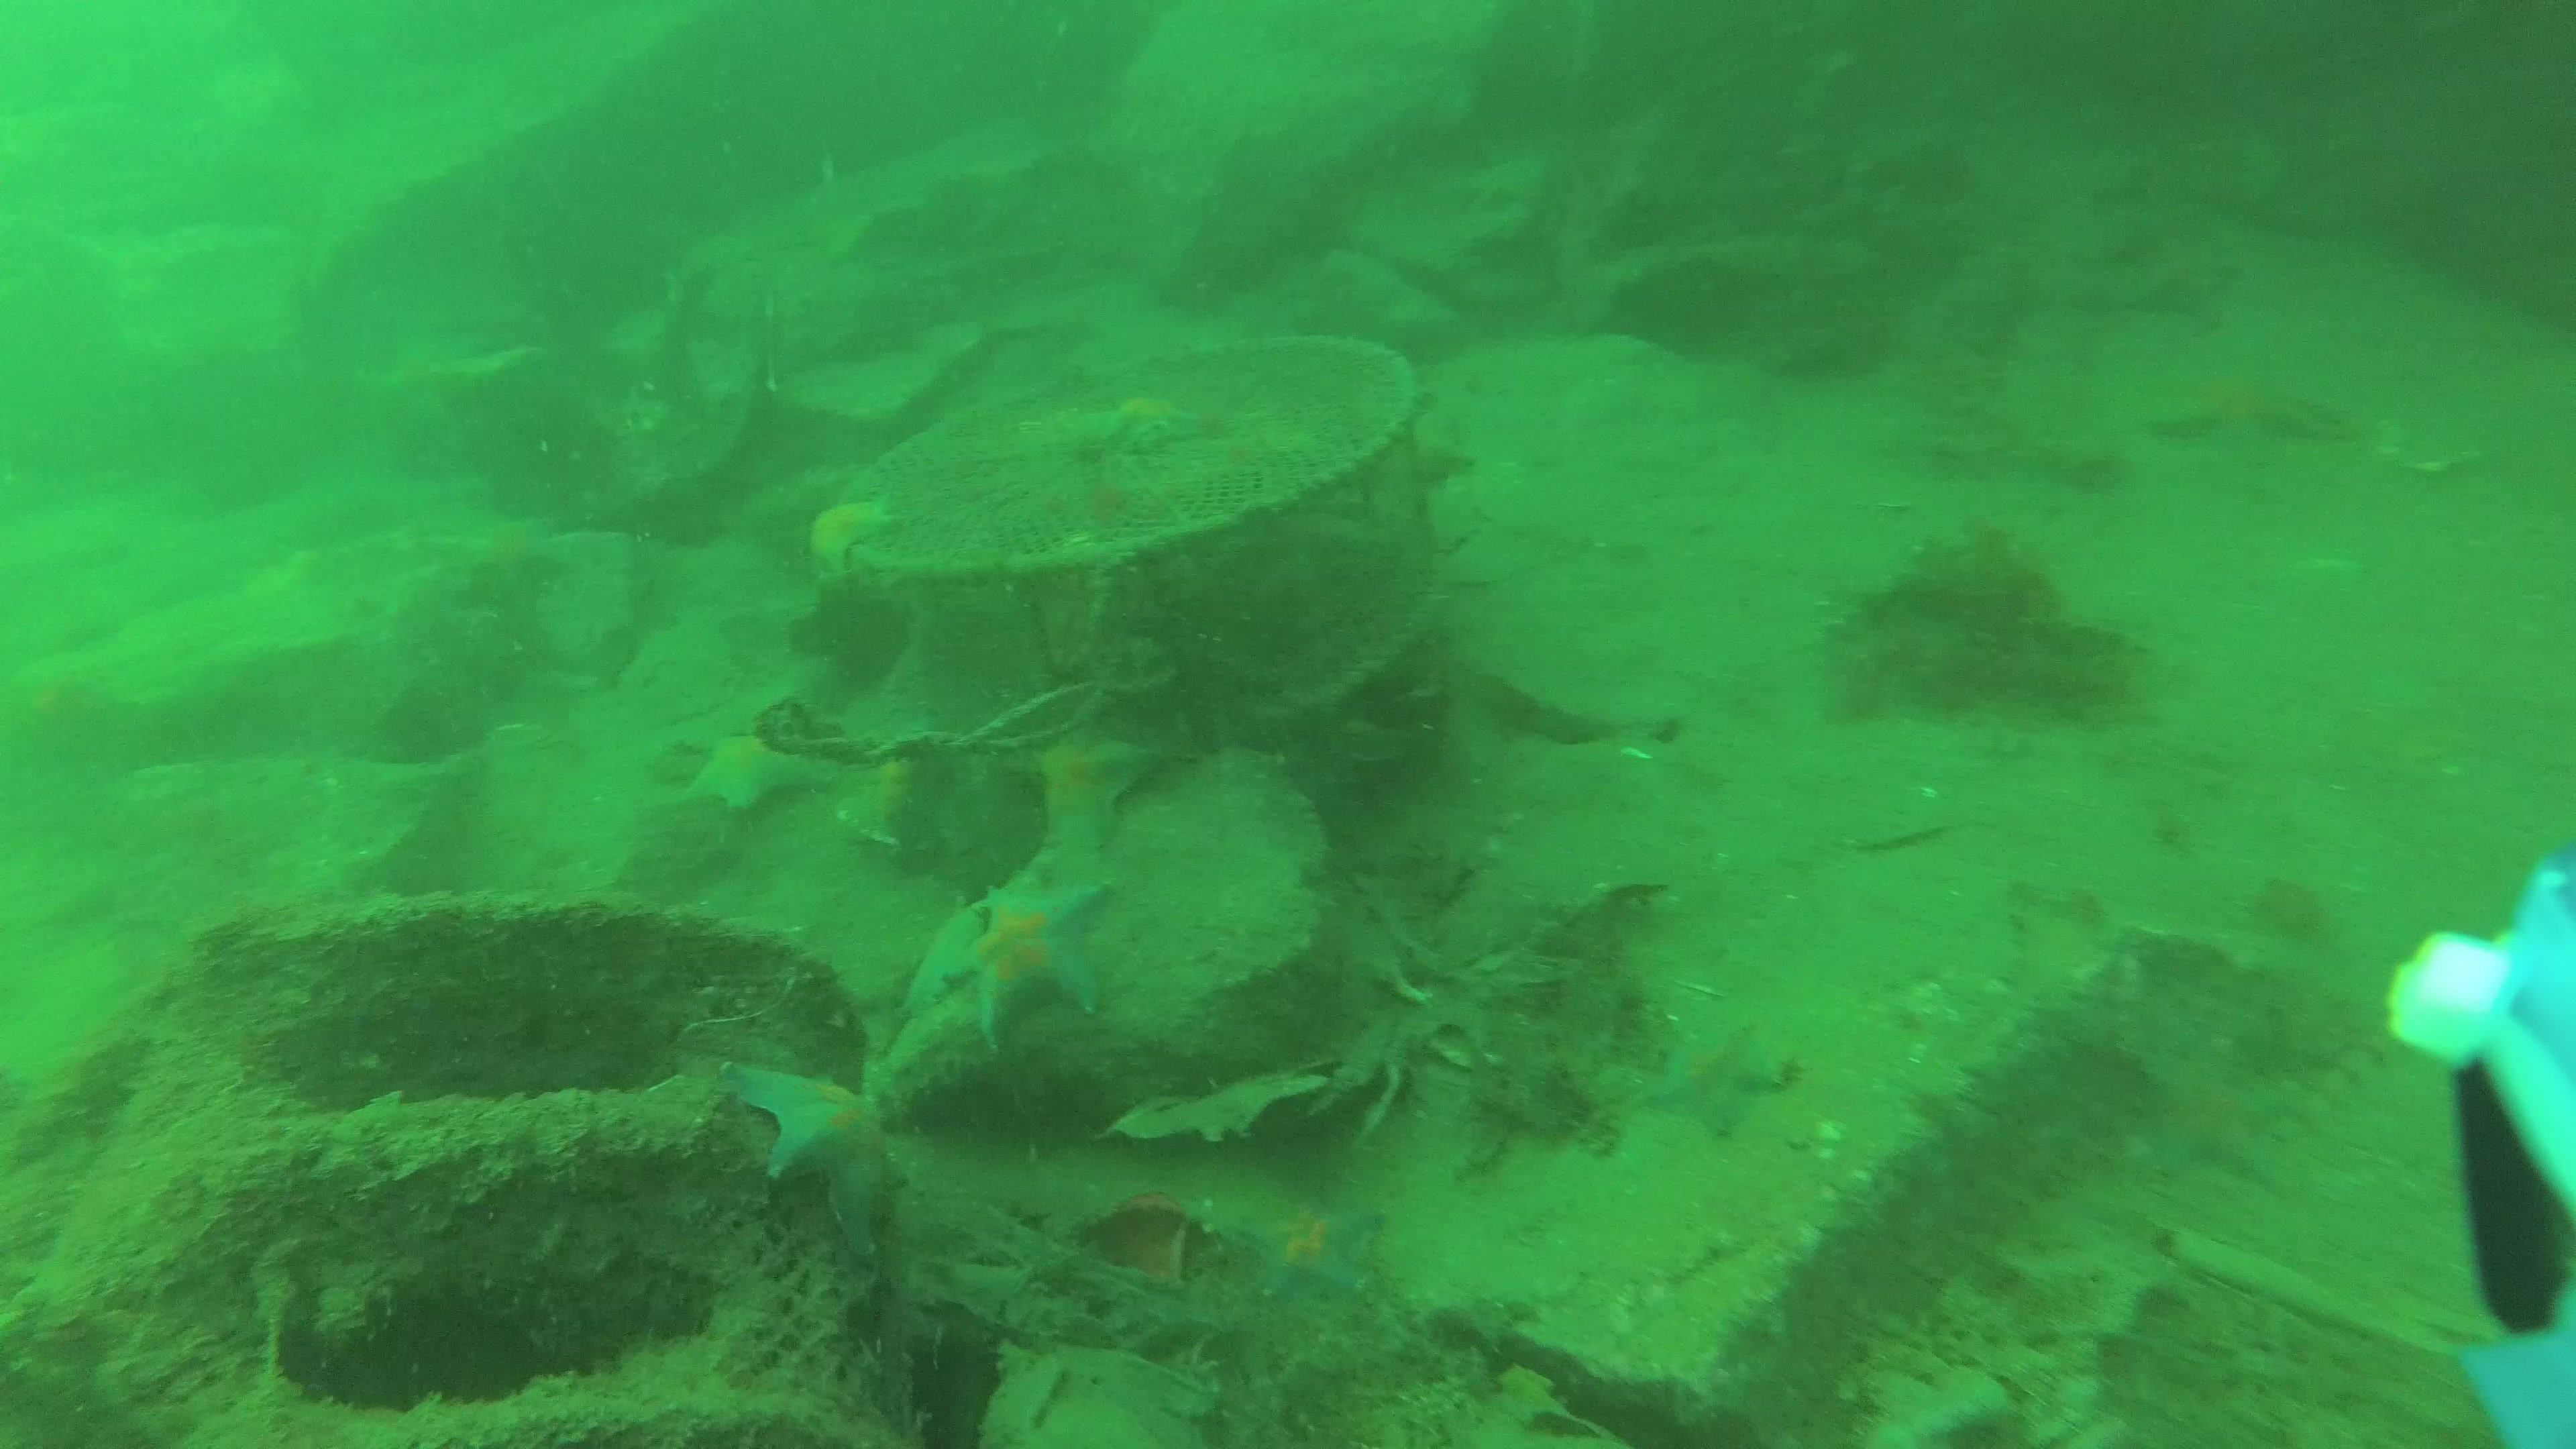starfish: (718, 1054, 890, 1235), (966, 878, 1118, 1053), (1644, 1003, 1785, 1139), (1253, 1205, 1378, 1304), (1033, 743, 1138, 851), (683, 731, 817, 814), (801, 494, 892, 587), (908, 908, 984, 1014), (1088, 400, 1196, 460)
